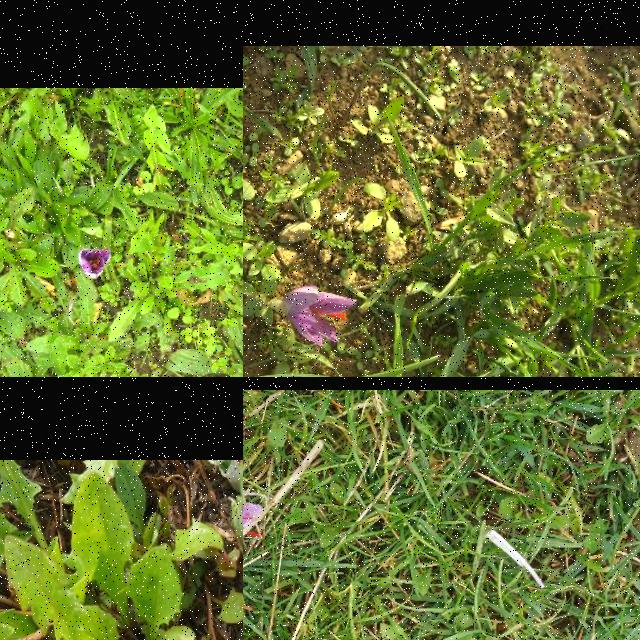flower: (287, 286, 359, 348), (243, 477, 263, 546), (79, 247, 111, 279)
